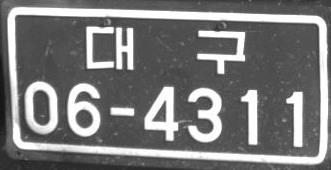0: (23, 79, 59, 134)
1: (234, 89, 271, 146), (280, 89, 313, 148)
3: (186, 85, 221, 143)
4: (142, 84, 179, 141)
6: (65, 81, 101, 137)
대구_D: (85, 24, 246, 75)
